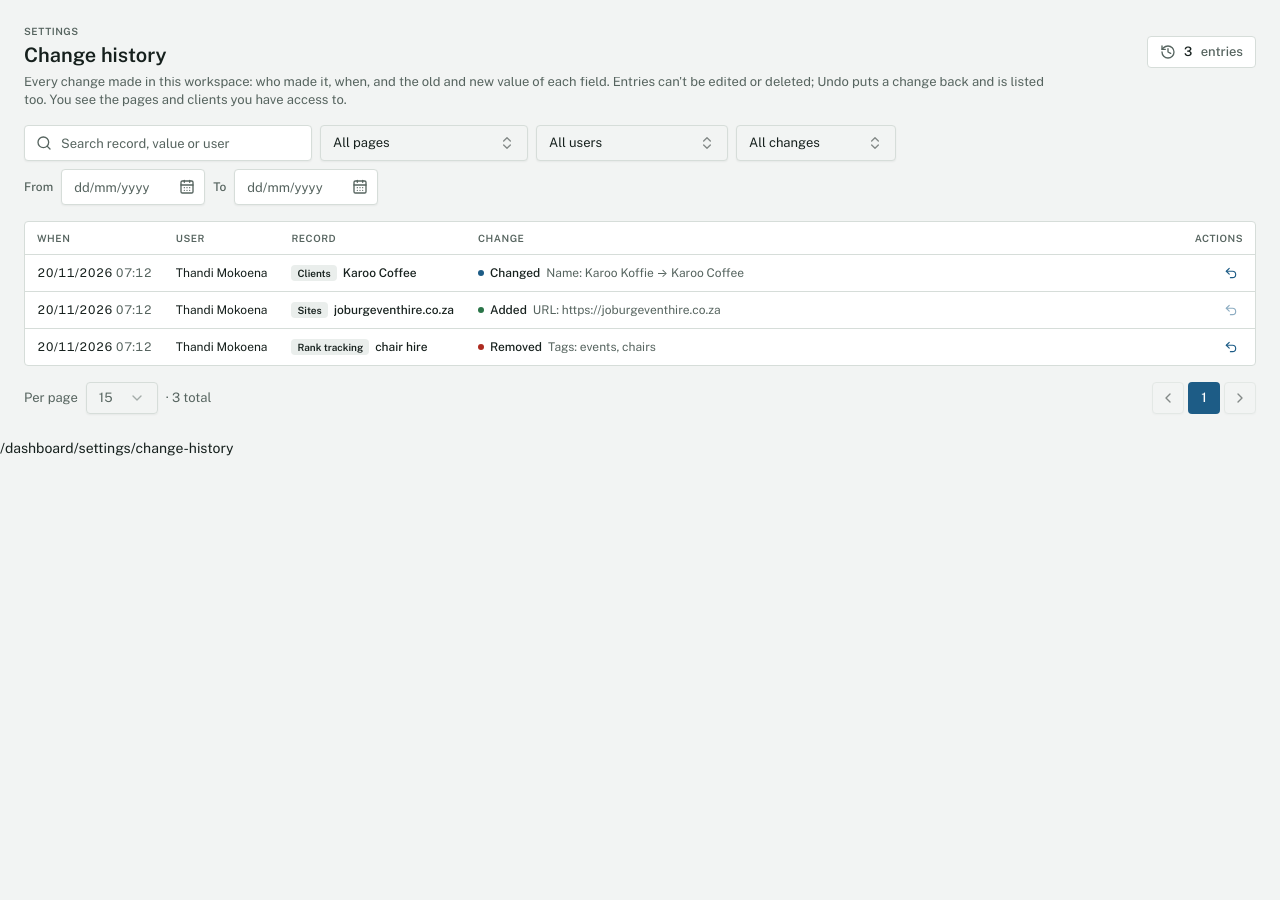
it: ChangeHistoryPage › opens an entry in a drawer with every field, who and when, and undoes from there
Expected: the text "Karoo Coffee" is shown, [343,264,417,280]
Click the text "Thandi Mokoena" in the row of "Changed": (222, 272) [176,266,268,280]
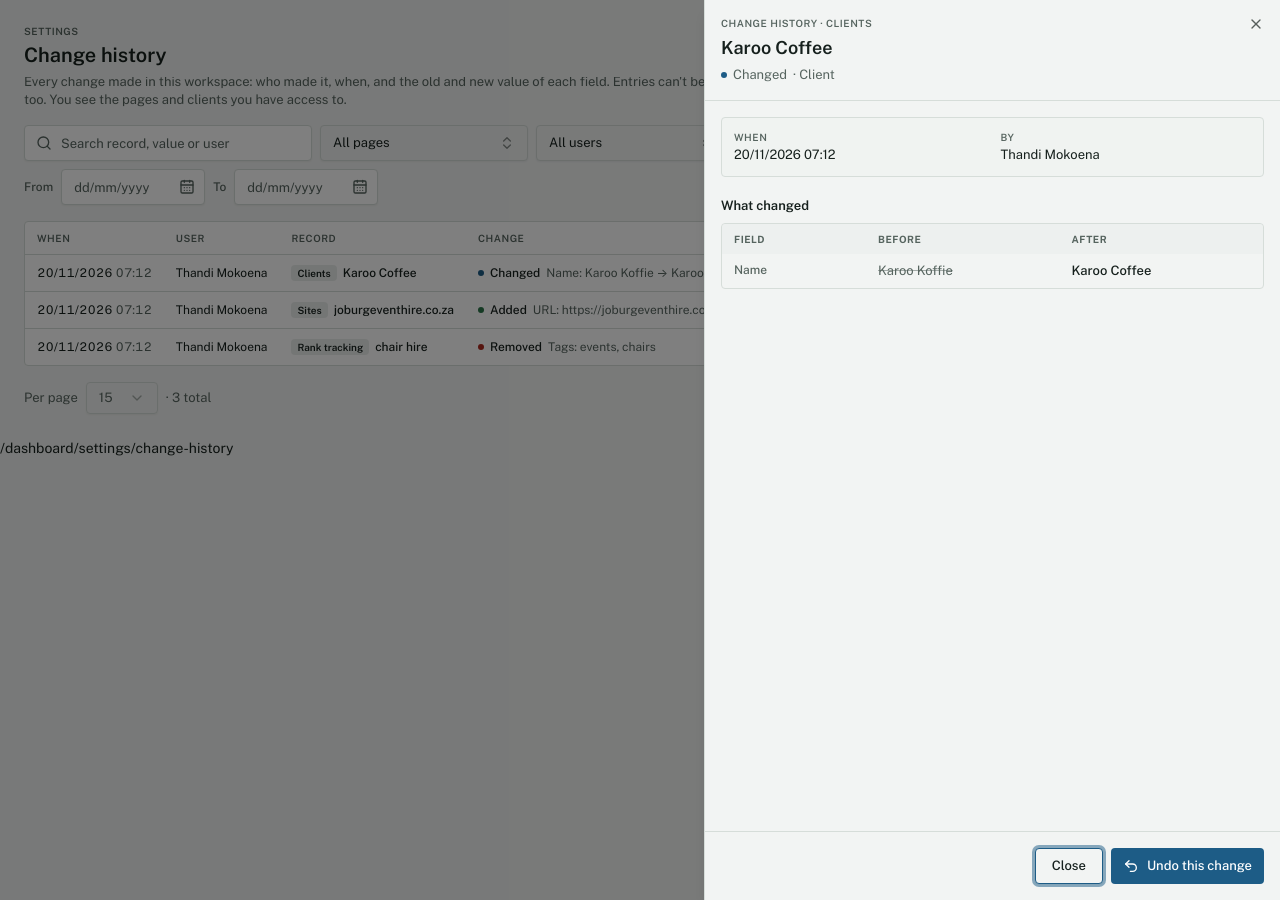
Result: the dialog "Karoo Coffee" shows "Change history · Clients" at [704,0,1279,899]
Result: the row "Name Karoo Koffie Karoo Coffee" is shown at [722,254,1263,288]
Click the button "Undo this change": (1187, 866) [1111,848,1264,884]
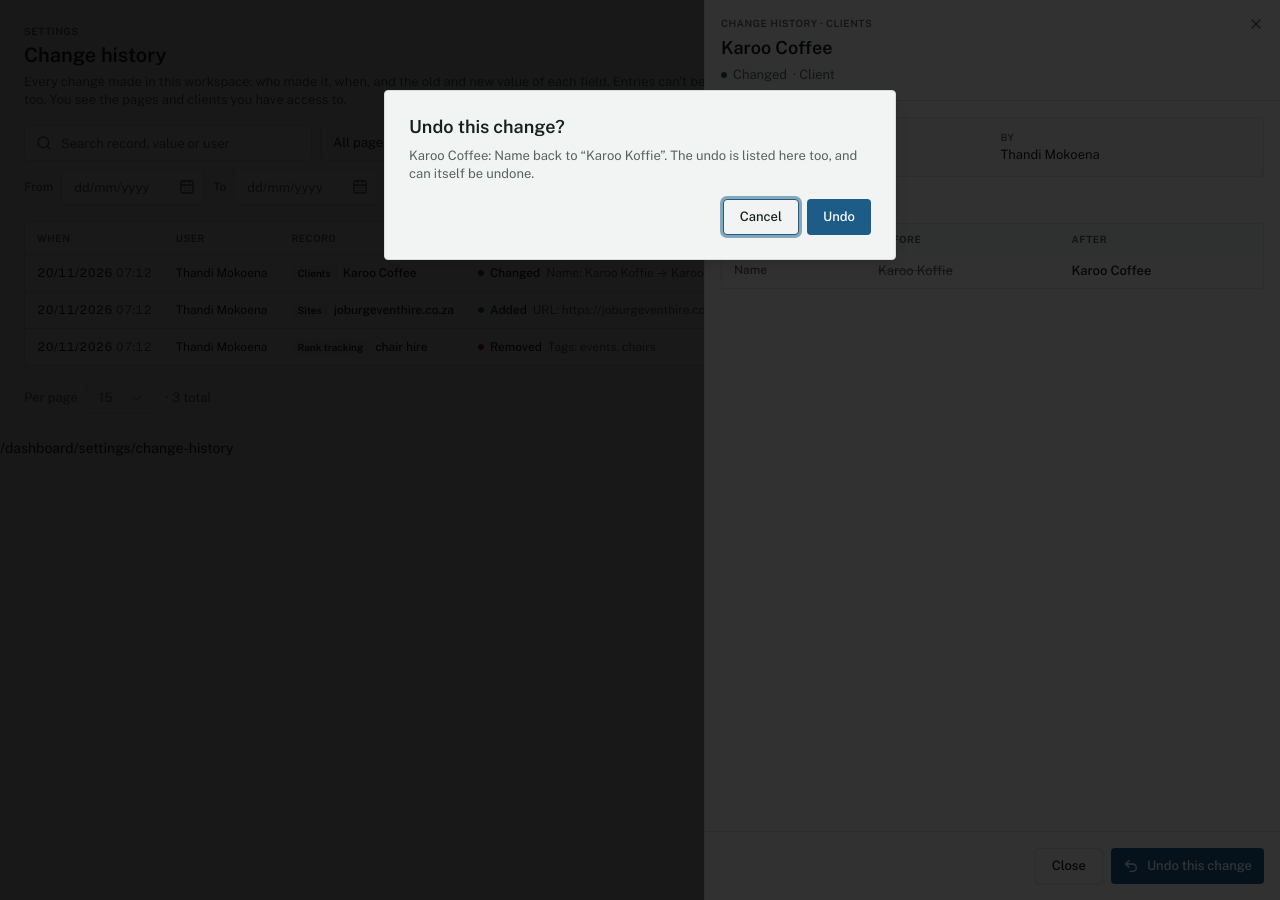
Click the button "Undo": (839, 217) [807,199,871,235]
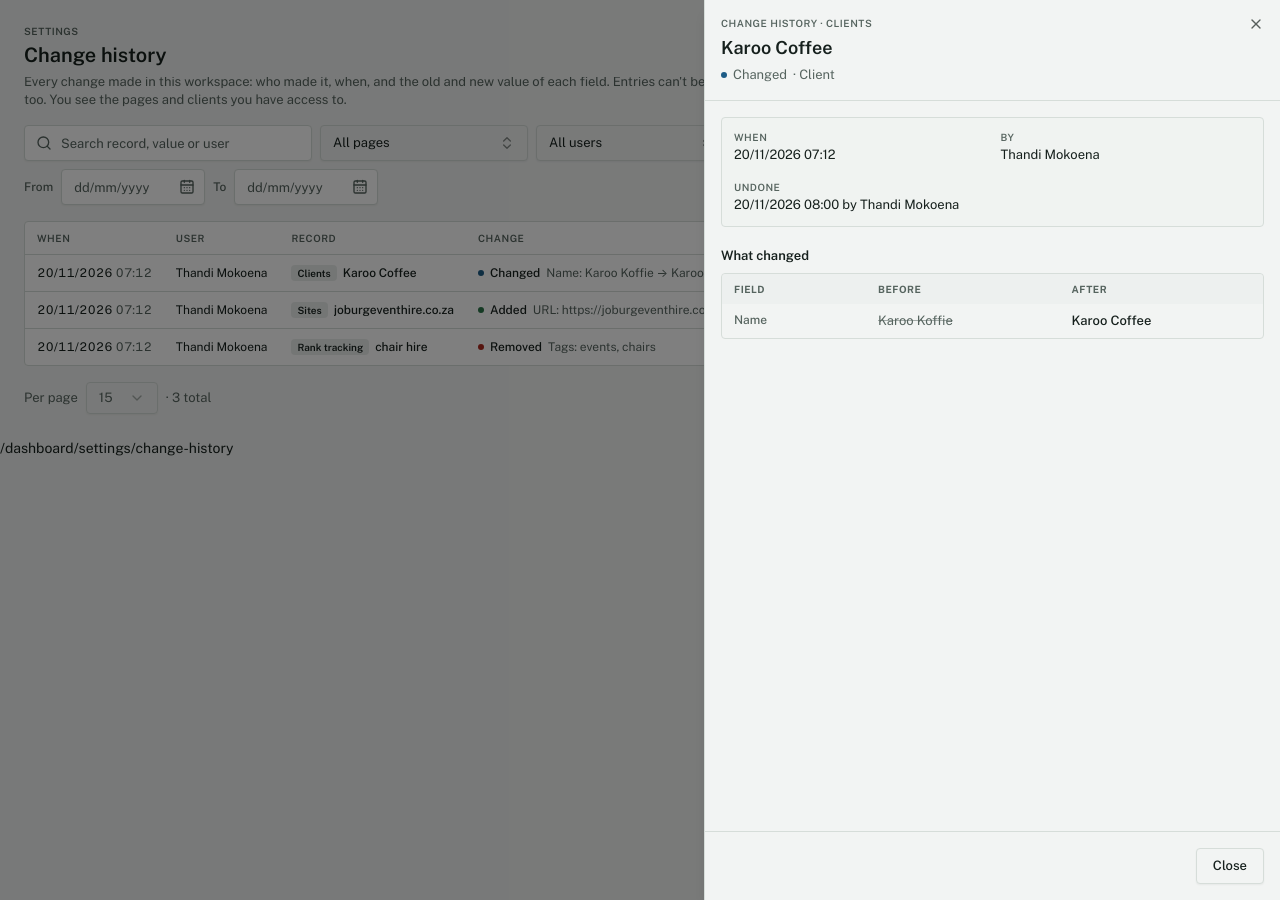
Result: the text "20/11/2026 08:00 by Thandi Mokoena" is shown at [734,196,984,214]
Result: the button "Undo this change" is gone
Click the button "Close": (1230, 866) [1196,848,1264,884]
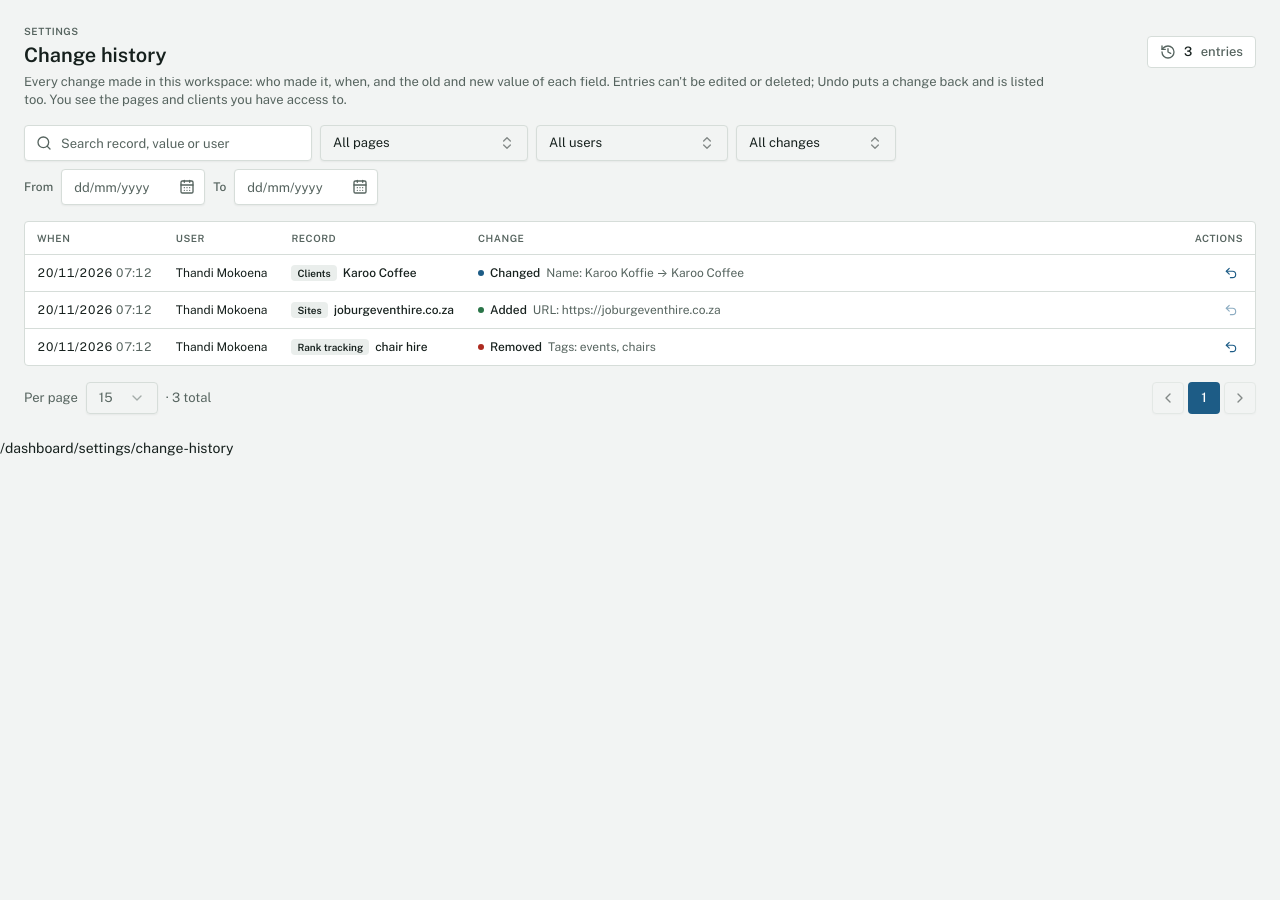
Result: the dialog is gone
